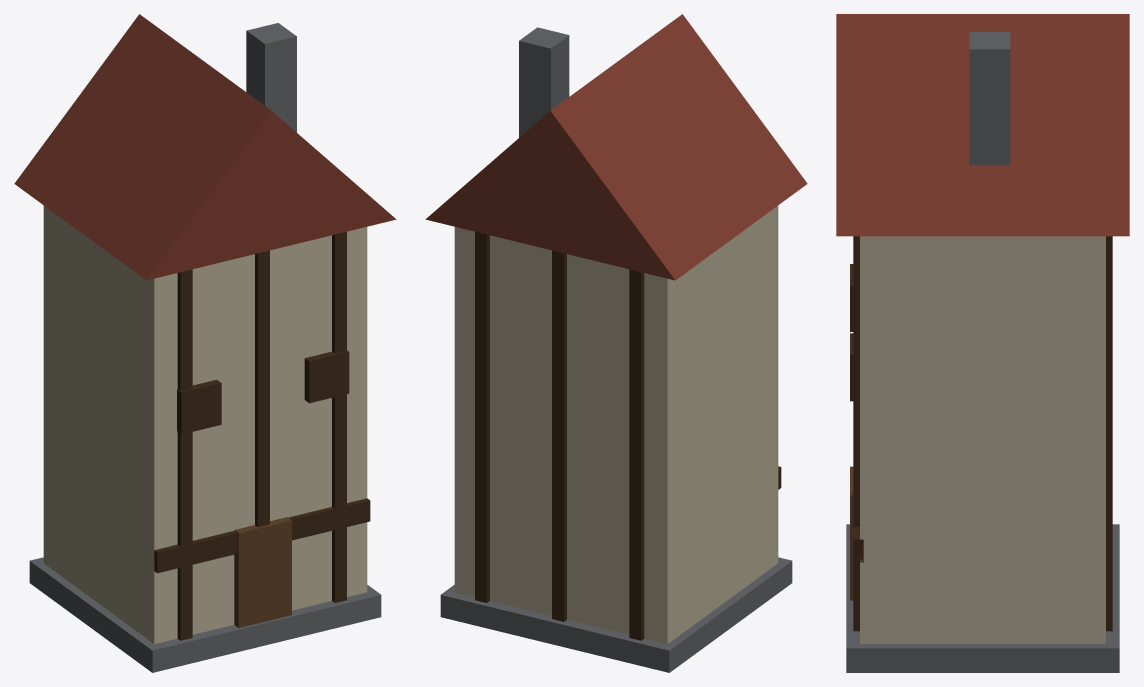
The model's file is house_l2_lowpoly.glb.
3 renders of one model, left to right at view 1: azimuth 30°, elevation 25°; view 2: azimuth 150°, elevation 25°; view 3: azimuth 270°, elevation 25°, orthographic. The views are drawn at different scales.
Parts seen in each view (by area): view 1: lp_house; view 2: lp_house; view 3: lp_house.
Part boxes in pixels (box(x1,y1,x2,y2)): lp_house: box(14, 14, 396, 672); lp_house: box(425, 14, 807, 672); lp_house: box(836, 14, 1129, 672).
Bounding box in the file's own units: 0.94 × 1.97 × 0.86.
